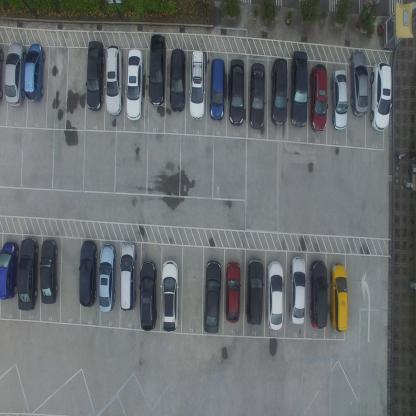car: (369, 61, 393, 132), (16, 236, 38, 311), (22, 42, 46, 105), (160, 258, 180, 332), (289, 50, 308, 127), (308, 62, 328, 134), (4, 44, 27, 106), (329, 261, 349, 332), (309, 258, 328, 330), (139, 259, 158, 330), (348, 51, 368, 118), (148, 33, 166, 107), (126, 48, 144, 122), (266, 258, 284, 332), (105, 43, 123, 116), (86, 40, 104, 113), (288, 253, 306, 326), (119, 239, 137, 312), (78, 239, 97, 308), (98, 242, 116, 314), (248, 61, 266, 131), (270, 56, 288, 126), (0, 240, 20, 301), (189, 49, 206, 120), (40, 238, 58, 305), (228, 57, 245, 126), (246, 256, 263, 324), (169, 48, 186, 113), (209, 57, 226, 121), (331, 67, 348, 131), (224, 260, 241, 322)
